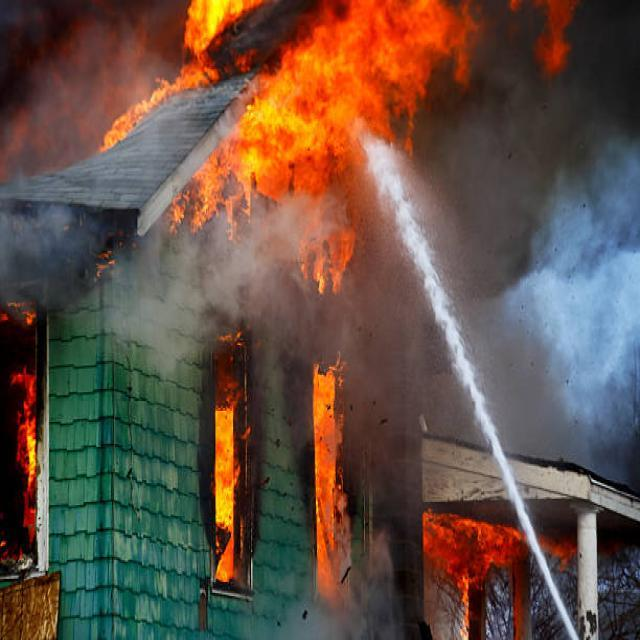Fire: (178, 0, 492, 291), (105, 0, 240, 153), (420, 514, 576, 601), (308, 364, 343, 596), (216, 404, 242, 589), (524, 0, 577, 78), (18, 380, 40, 544)
Smoke: (0, 0, 186, 180)
